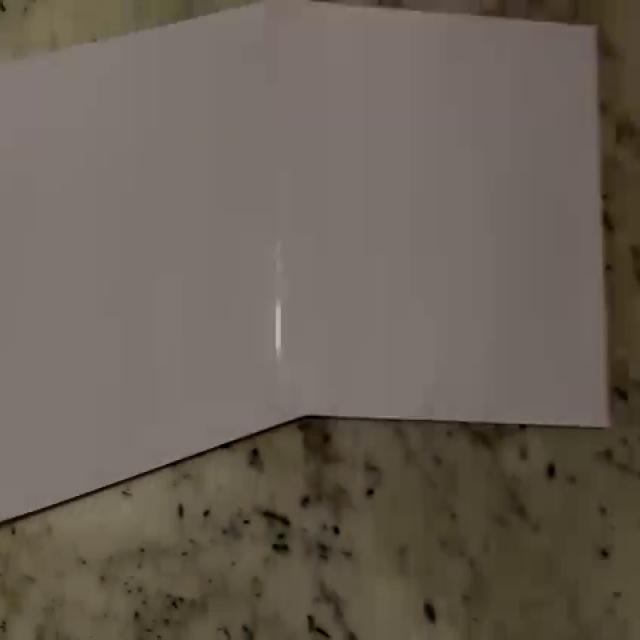road: (0, 0, 614, 524)
